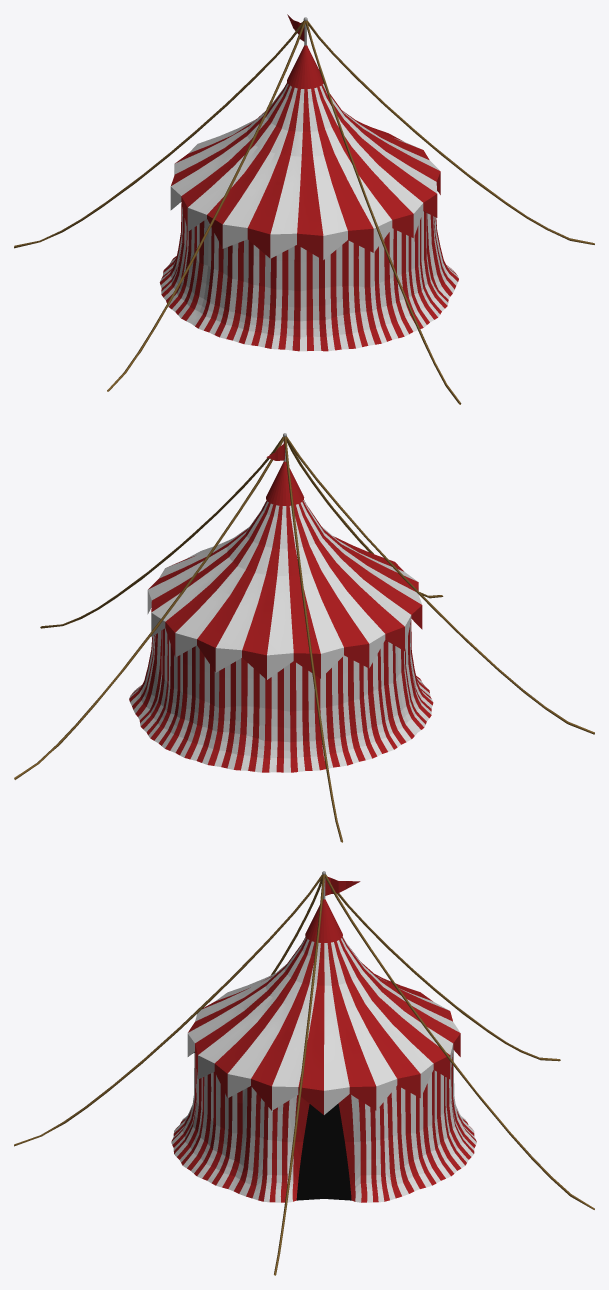
File: SceneWithOutDummy.glb
3 renders of one model, top to bottom at view 1: azimuth 30°, elevation 25°; view 2: azimuth 150°, elevation 25°; view 3: azimuth 270°, elevation 25°, orthographic.
Visible parts, largest first — view 1: Cylinder.001; view 2: Cylinder.001; view 3: Cylinder.001.
Part boxes in pixels (x1,y1,x2,y2): Cylinder.001: [14, 14, 594, 404]; Cylinder.001: [14, 433, 594, 842]; Cylinder.001: [14, 871, 594, 1275].
Size of what is drawn, in the model's own units: 18.69 by 9.49 by 18.16.
1 material, 1 textured.
